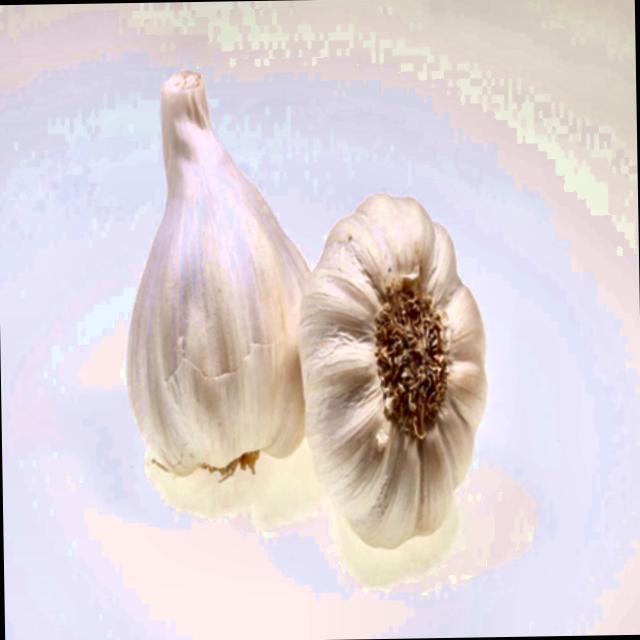garlic: (128, 71, 309, 478), (300, 195, 486, 548)
